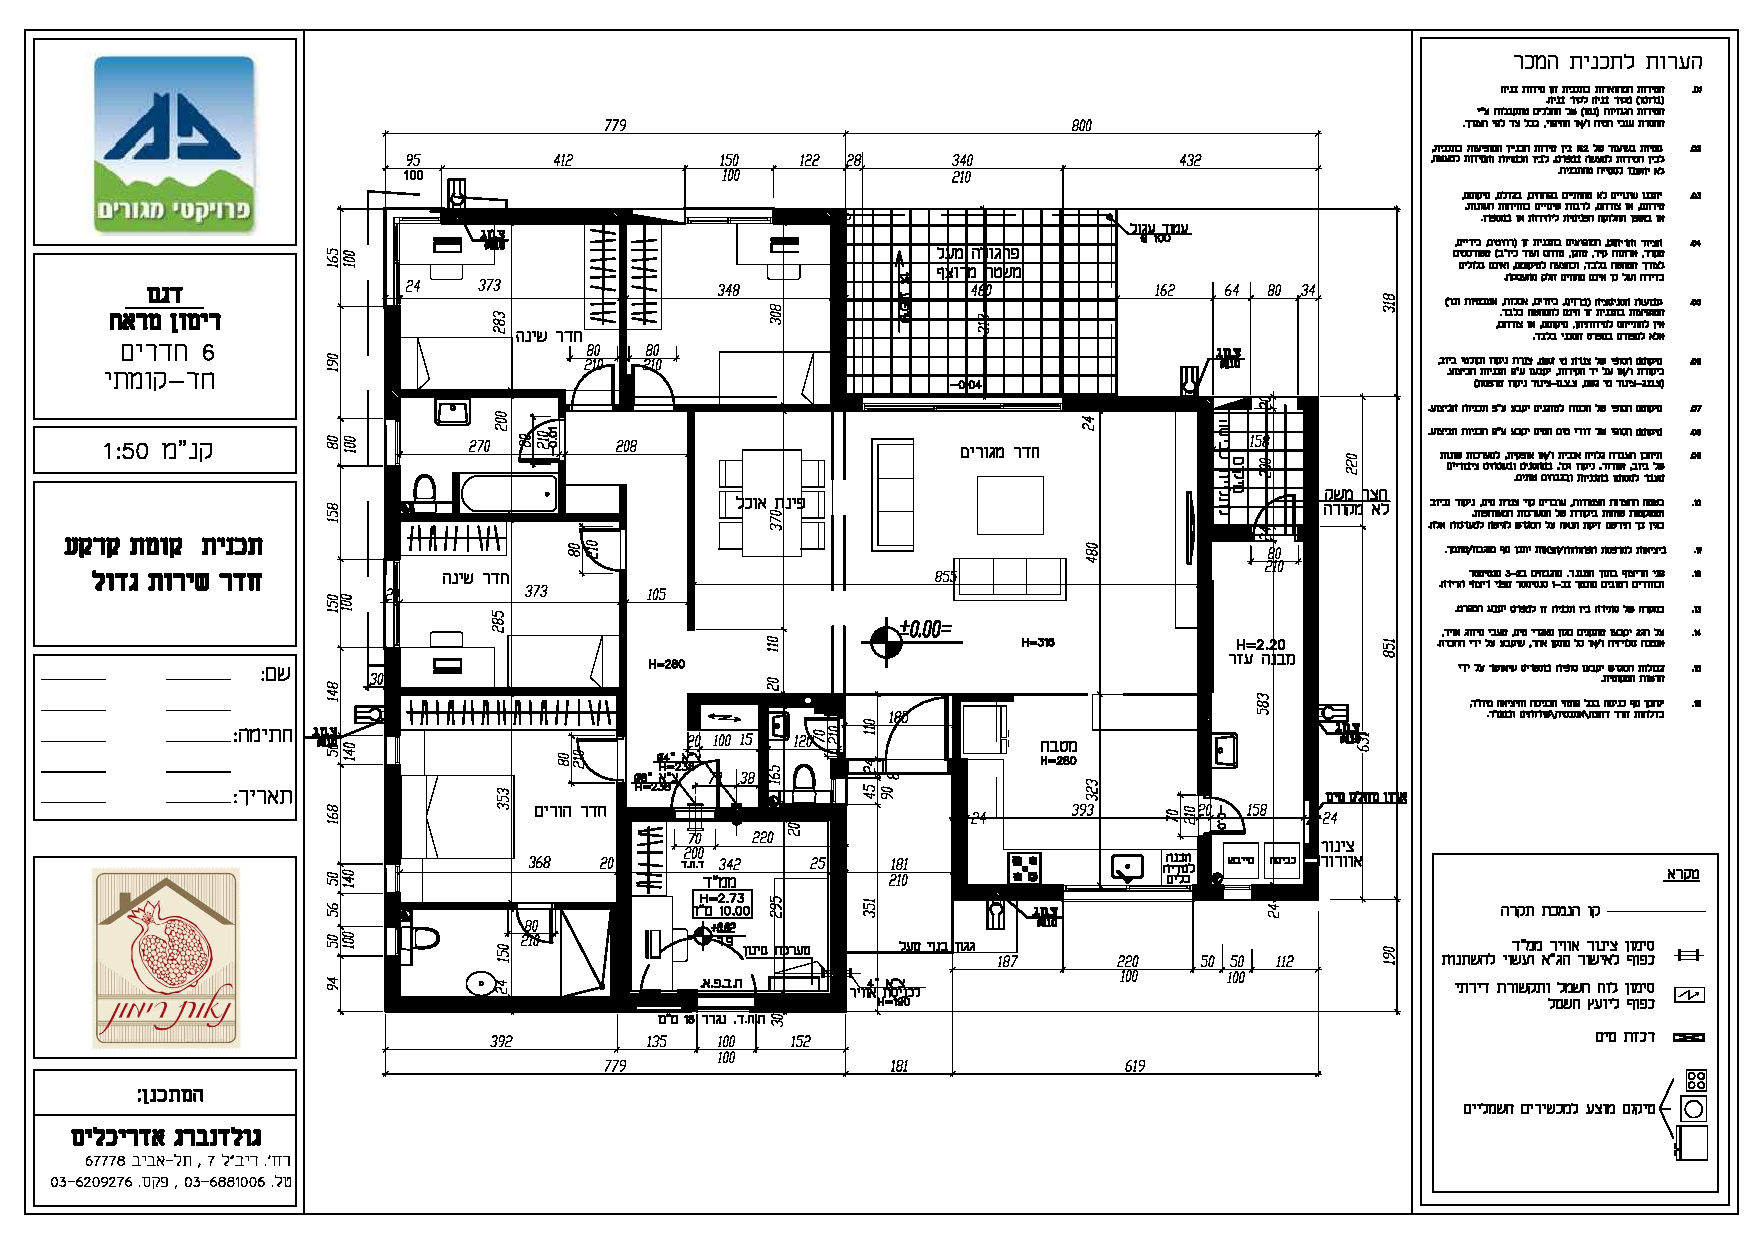wall: (1304, 400, 1318, 797), (1198, 399, 1210, 778), (388, 996, 627, 1015), (829, 807, 845, 1006), (832, 211, 845, 407), (950, 765, 969, 896), (616, 786, 627, 990), (1068, 397, 1208, 411), (446, 211, 619, 221), (385, 766, 403, 862), (386, 311, 400, 419), (758, 696, 769, 821), (758, 994, 843, 1009), (384, 470, 399, 553), (688, 695, 801, 705)
window: (1064, 880, 1194, 909), (684, 203, 774, 228)
